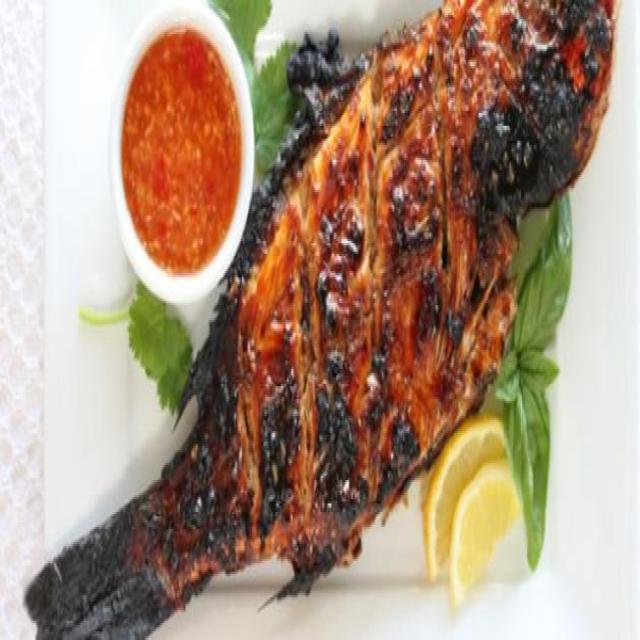Peixe: (22, 0, 624, 638)
